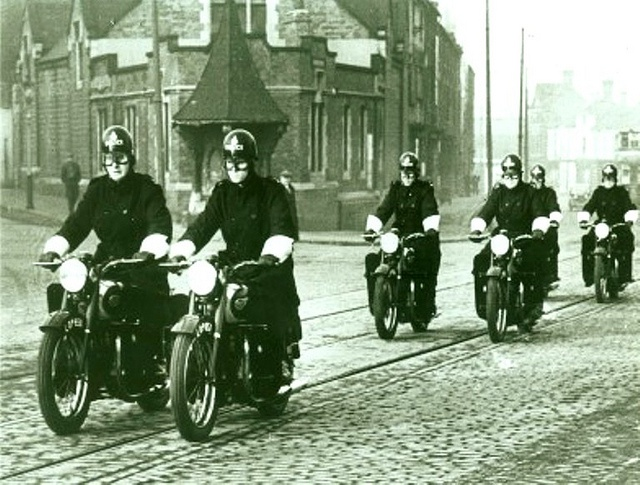non-vehicle: (30, 253, 189, 433), (158, 257, 294, 442), (464, 229, 542, 344), (362, 212, 429, 340), (579, 219, 631, 301), (535, 238, 560, 301)
